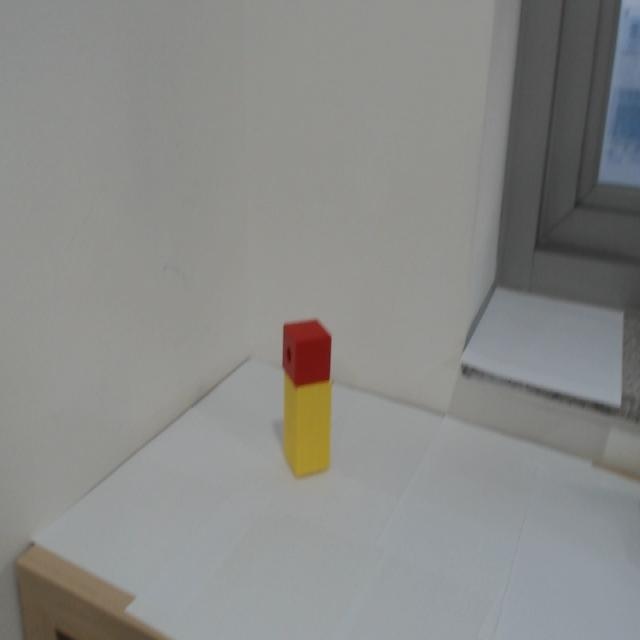cube: (276, 317, 335, 387)
